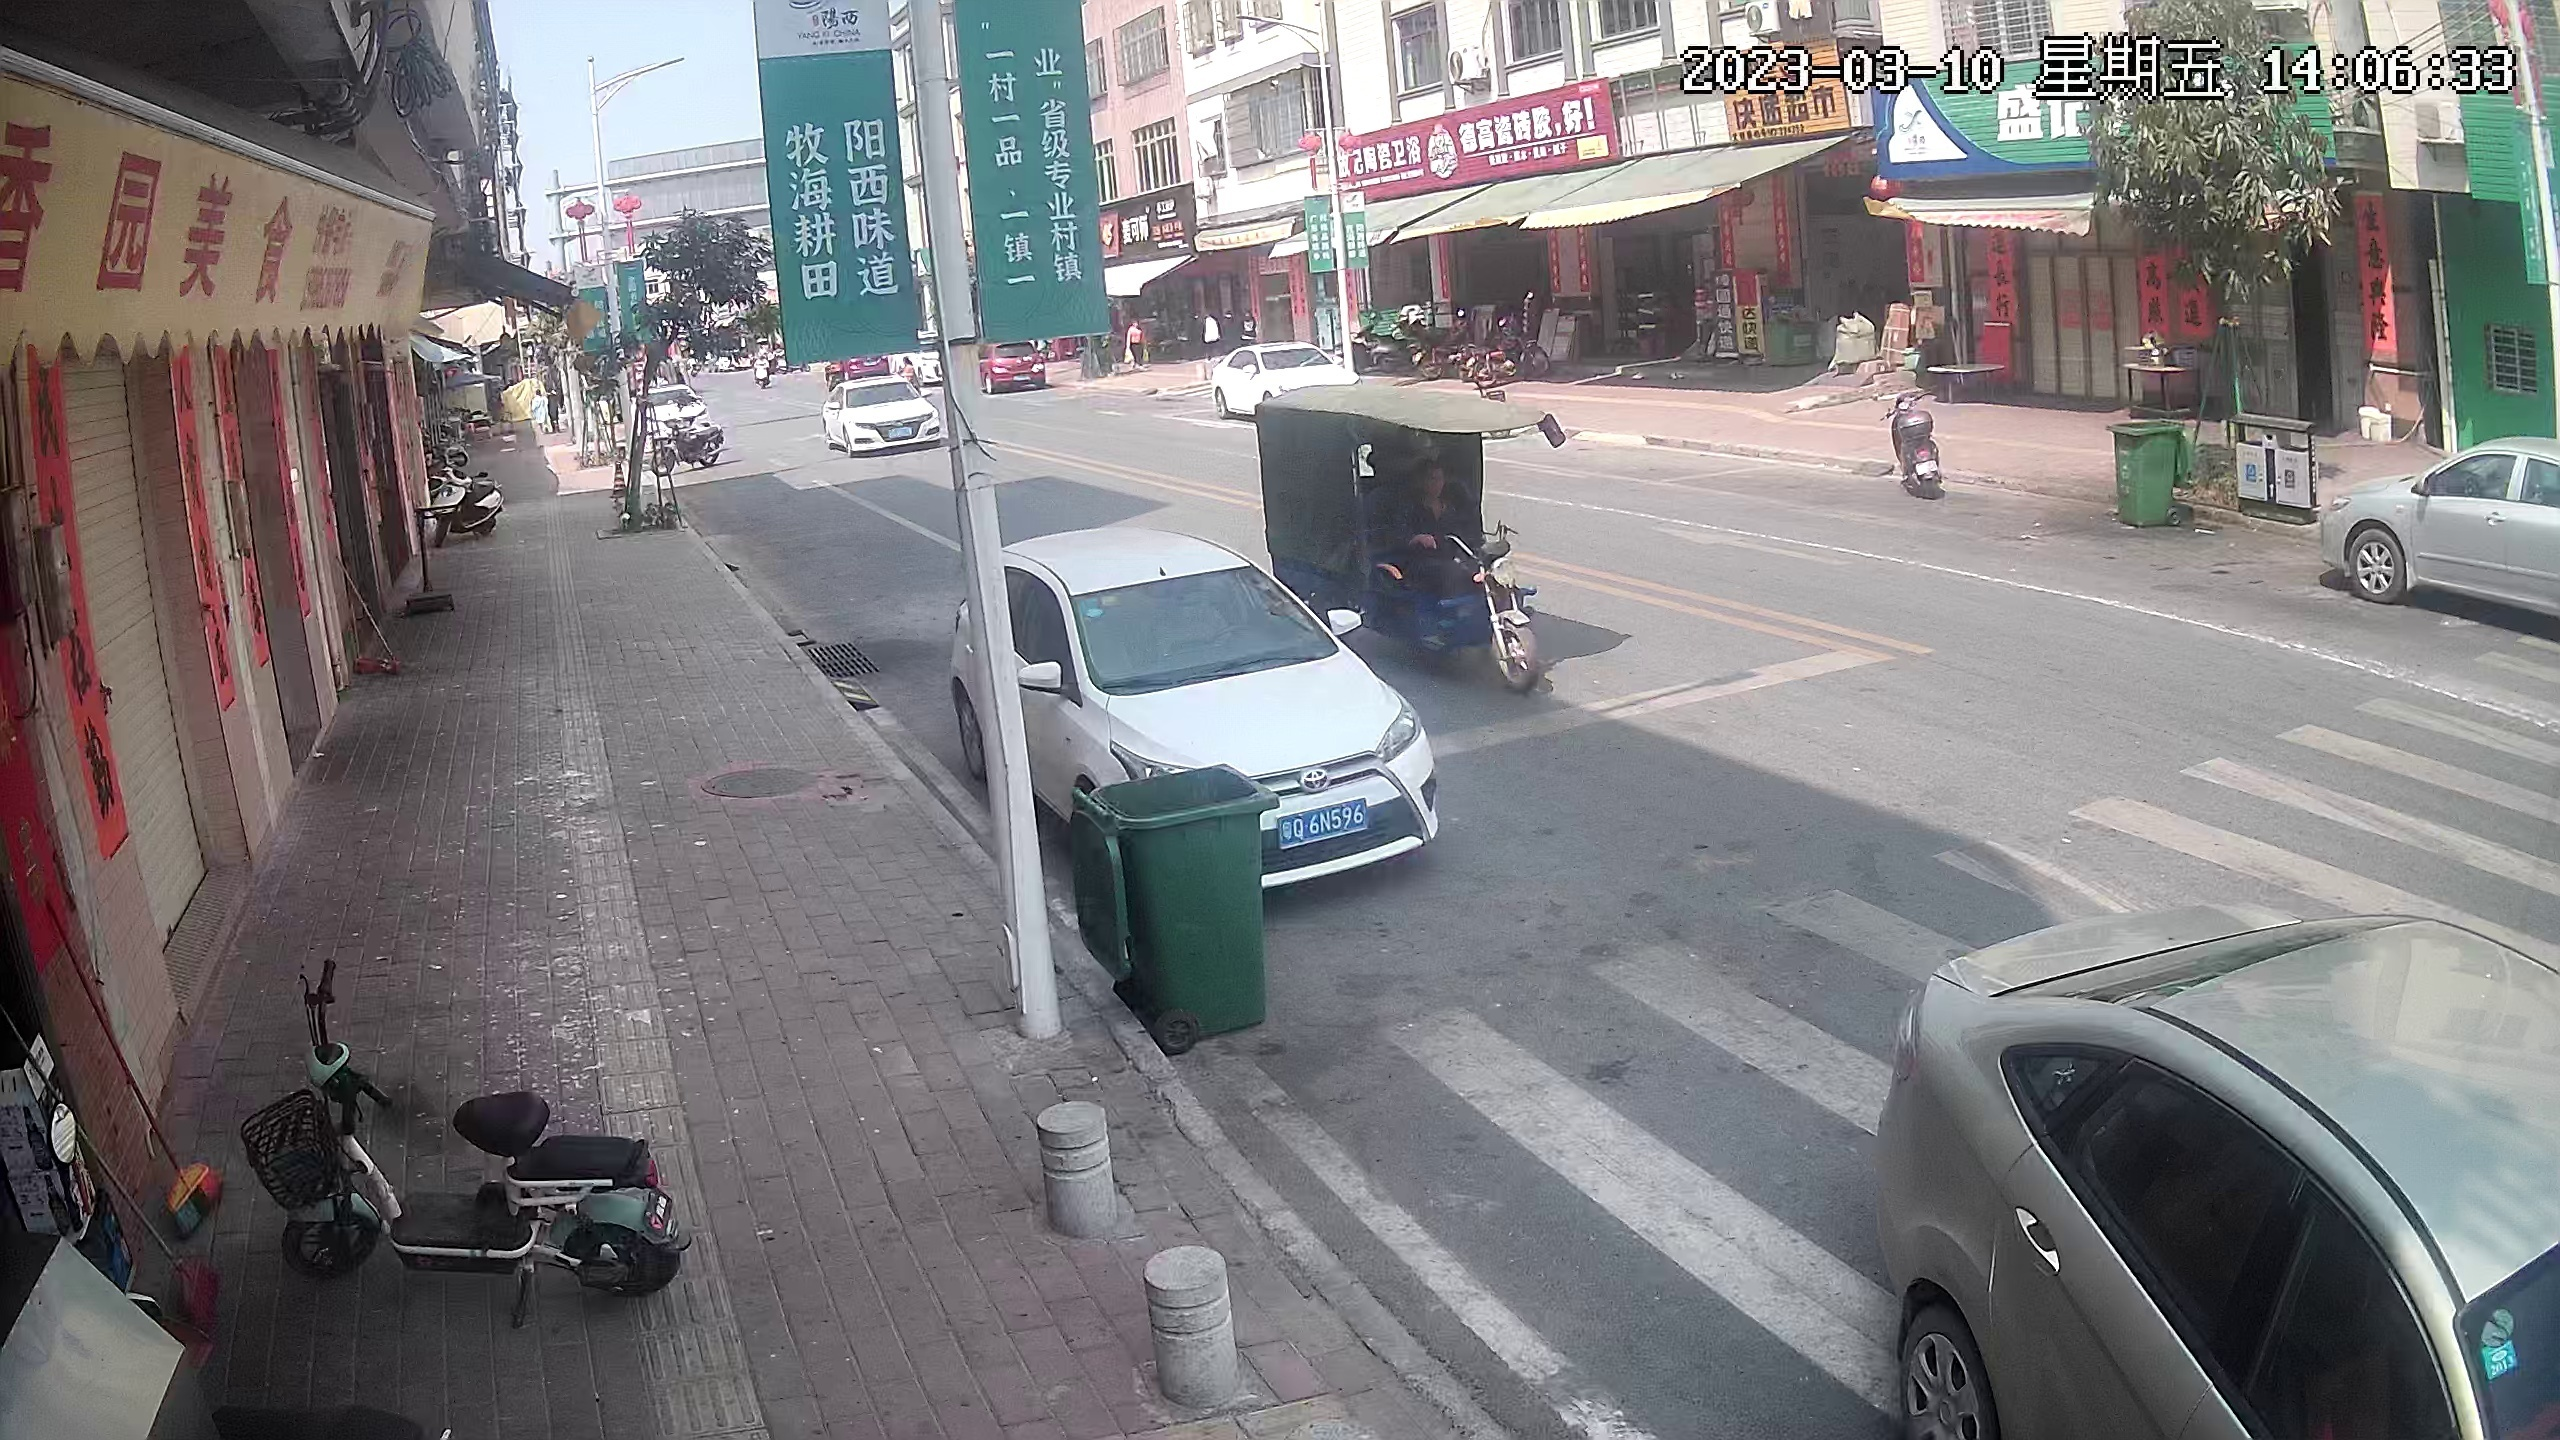head: (1410, 465, 1454, 519)
motorcycle: (253, 954, 698, 1313), (1885, 383, 1952, 505), (418, 469, 512, 543), (657, 419, 727, 477), (1468, 330, 1542, 379), (1407, 324, 1460, 382), (747, 348, 769, 395)
person: (1124, 312, 1154, 369), (532, 380, 559, 438)
sedan: (1879, 899, 2560, 1440), (954, 532, 1434, 905), (2332, 428, 2560, 637), (818, 378, 942, 457), (1213, 342, 1358, 403), (634, 383, 705, 425)
suv: (982, 342, 1049, 402)
tricycle: (1252, 377, 1553, 689)
